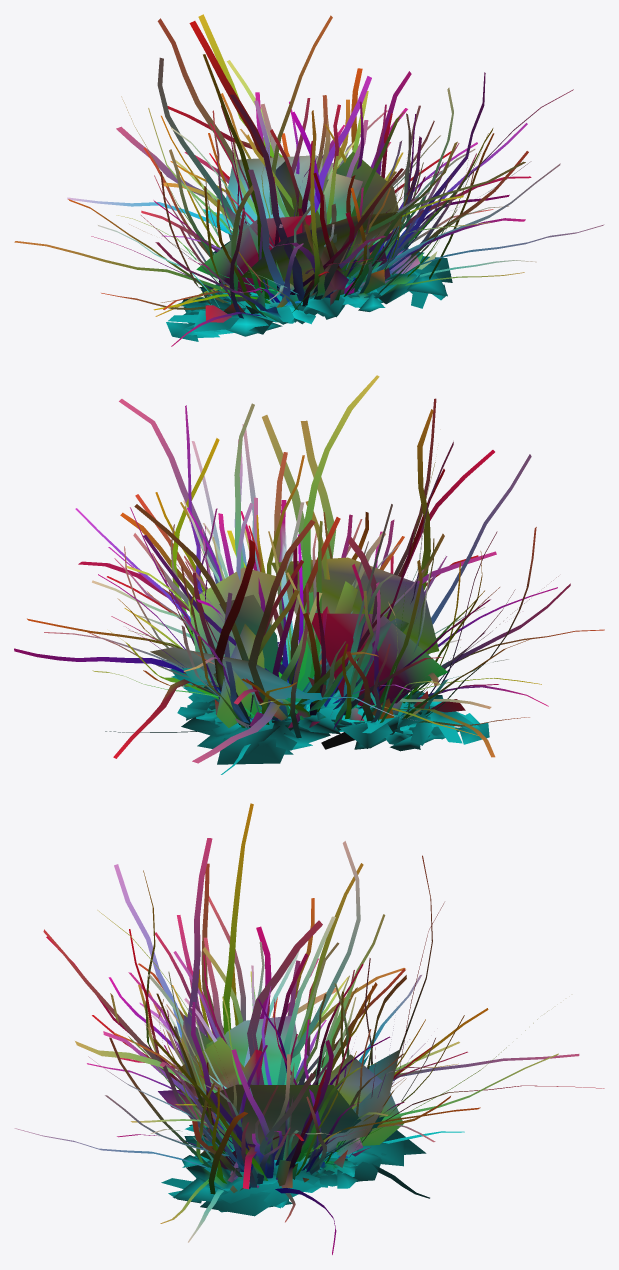
File: Wild_Grass_vczndjqja_Mid_vczndjqja_VarD_LOD2.fbx
The picture shows the model from 3 angles, top to bottom: view 1: azimuth 30°, elevation 25°; view 2: azimuth 150°, elevation 25°; view 3: azimuth 270°, elevation 25°; orthographic projection. The views are drawn at different scales.
Parts seen in each view (by area): view 1: _tobu_VarD_LOD3; view 2: _tobu_VarD_LOD3; view 3: _tobu_VarD_LOD3.
Boxes of the visible parts, x1,y1,x2,y2 form: _tobu_VarD_LOD3: [14, 14, 604, 346]; _tobu_VarD_LOD3: [14, 375, 604, 774]; _tobu_VarD_LOD3: [14, 803, 604, 1254].
Bounding box in the file's own units: 139 × 77.96 × 143.
